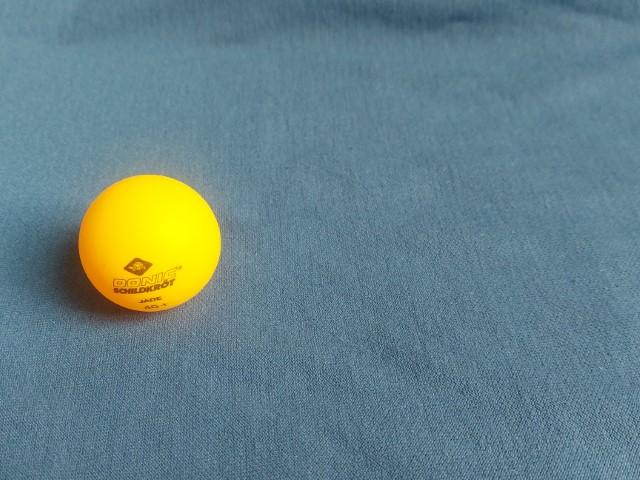oball: (73, 170, 223, 320)
